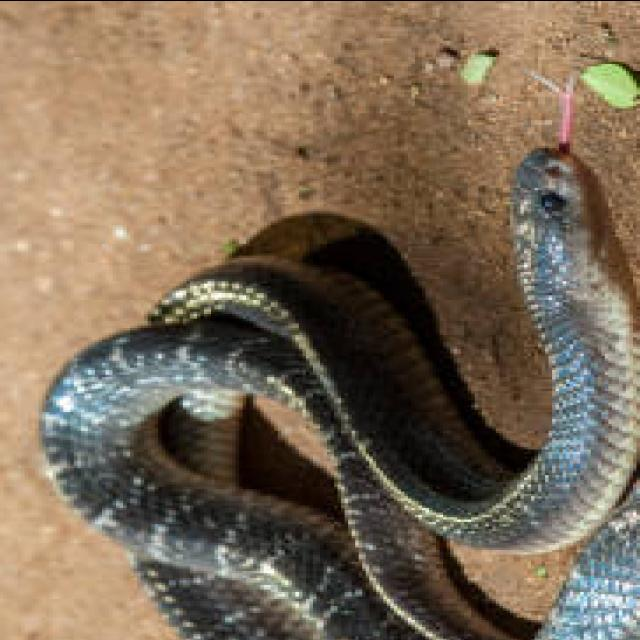snake: (31, 140, 640, 640)
